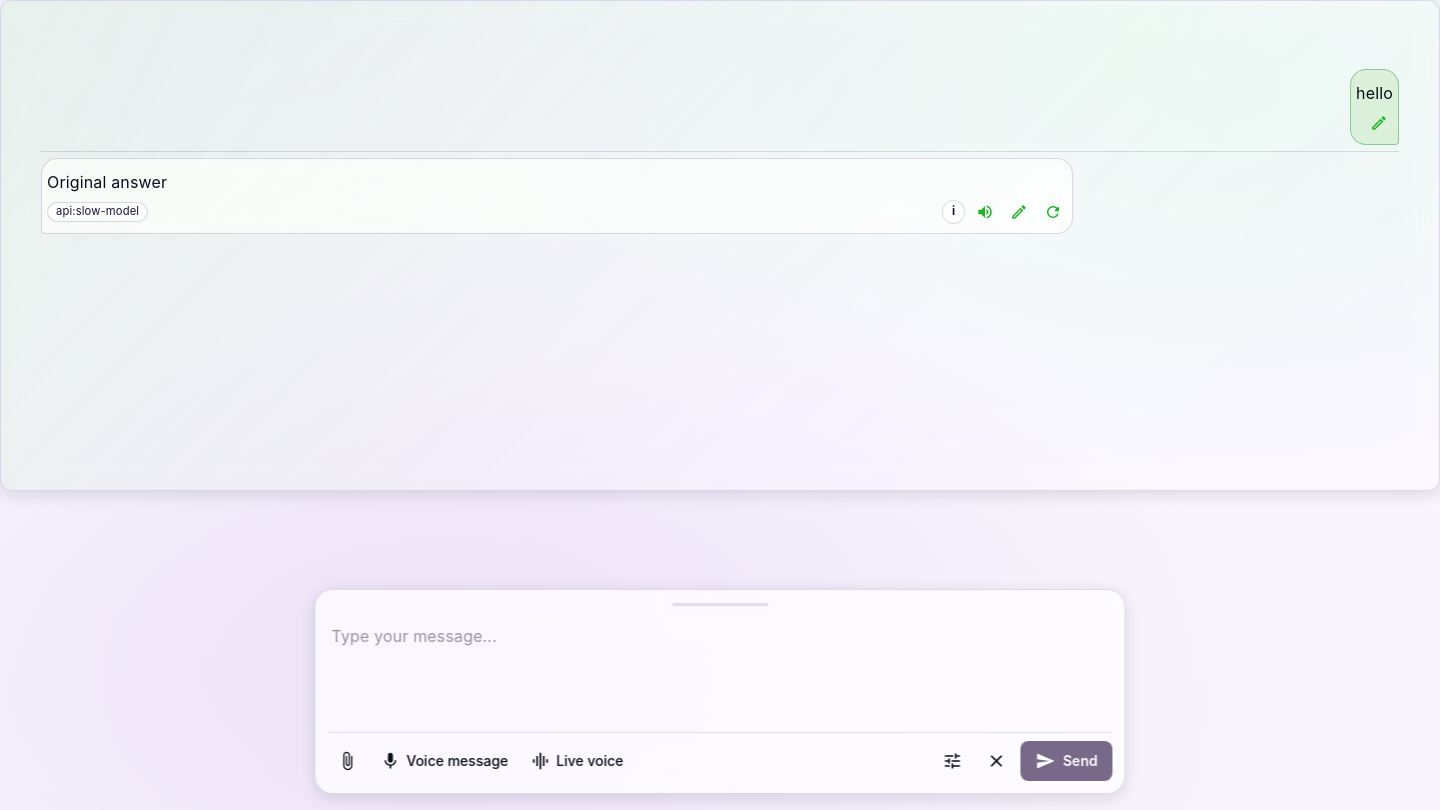
Chat request lifecycle › accepts the same pending regenerate api turn after reopening
This screenshot has width=1440, height=810.
Click the button named "Regenerate response" at (1053, 212), box [1039, 198, 1067, 226]
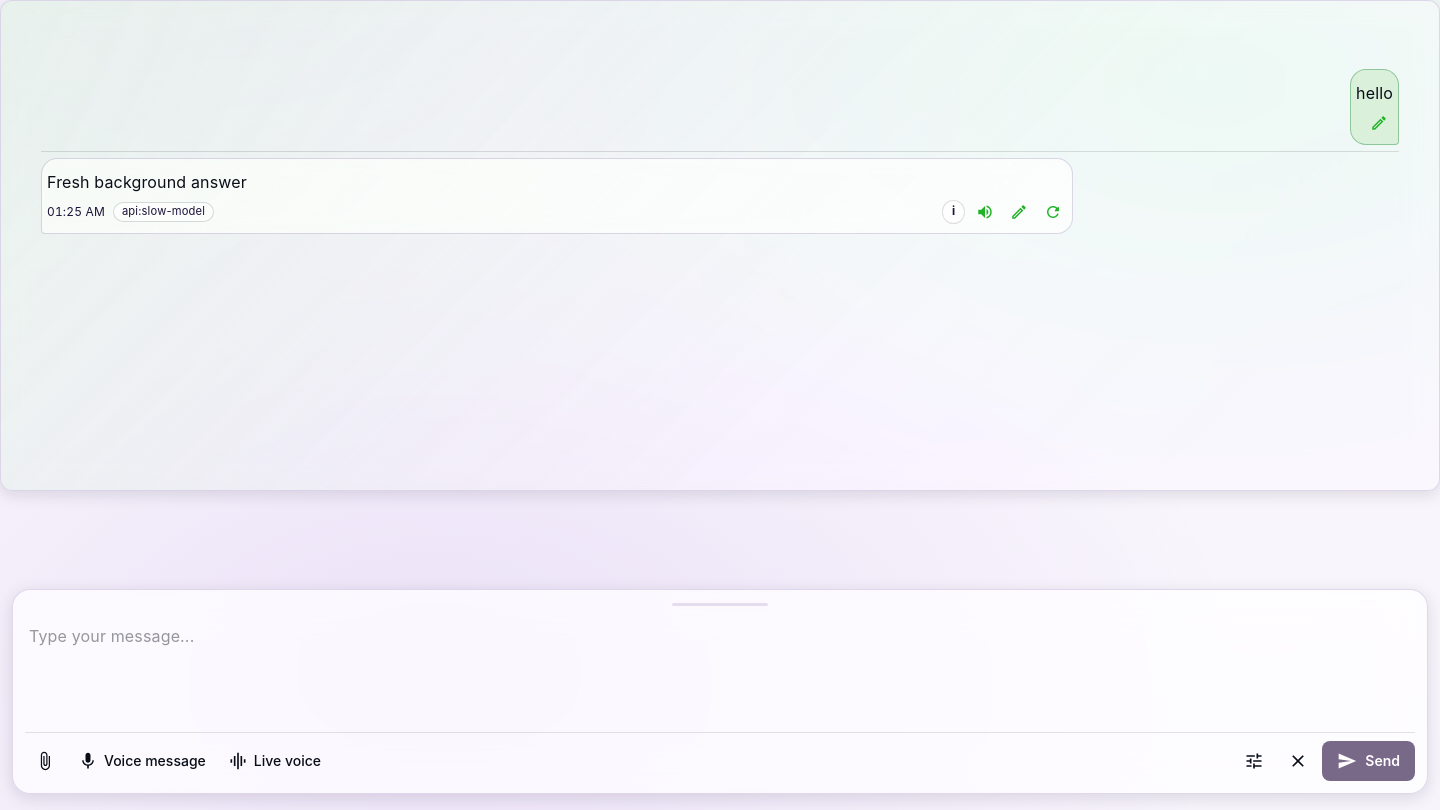
Expected: the text "Fresh background answer" is shown, [47, 172, 247, 192]
